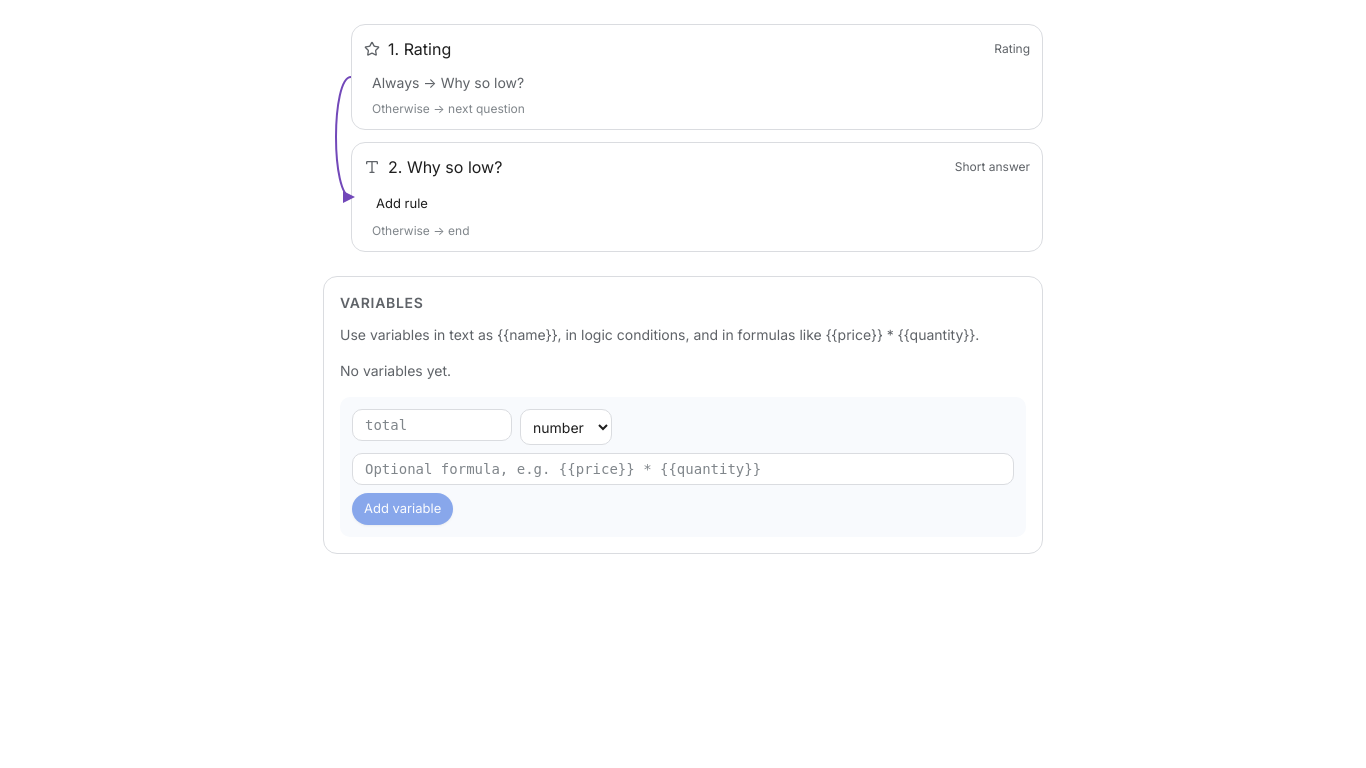
it: WorkflowTab › clicking a question's rule summary opens the existing LogicPanel in a sheet
This screenshot has width=1366, height=768.
Click the button "Always → Why so low?": [448, 82] box [364,69,1030,97]
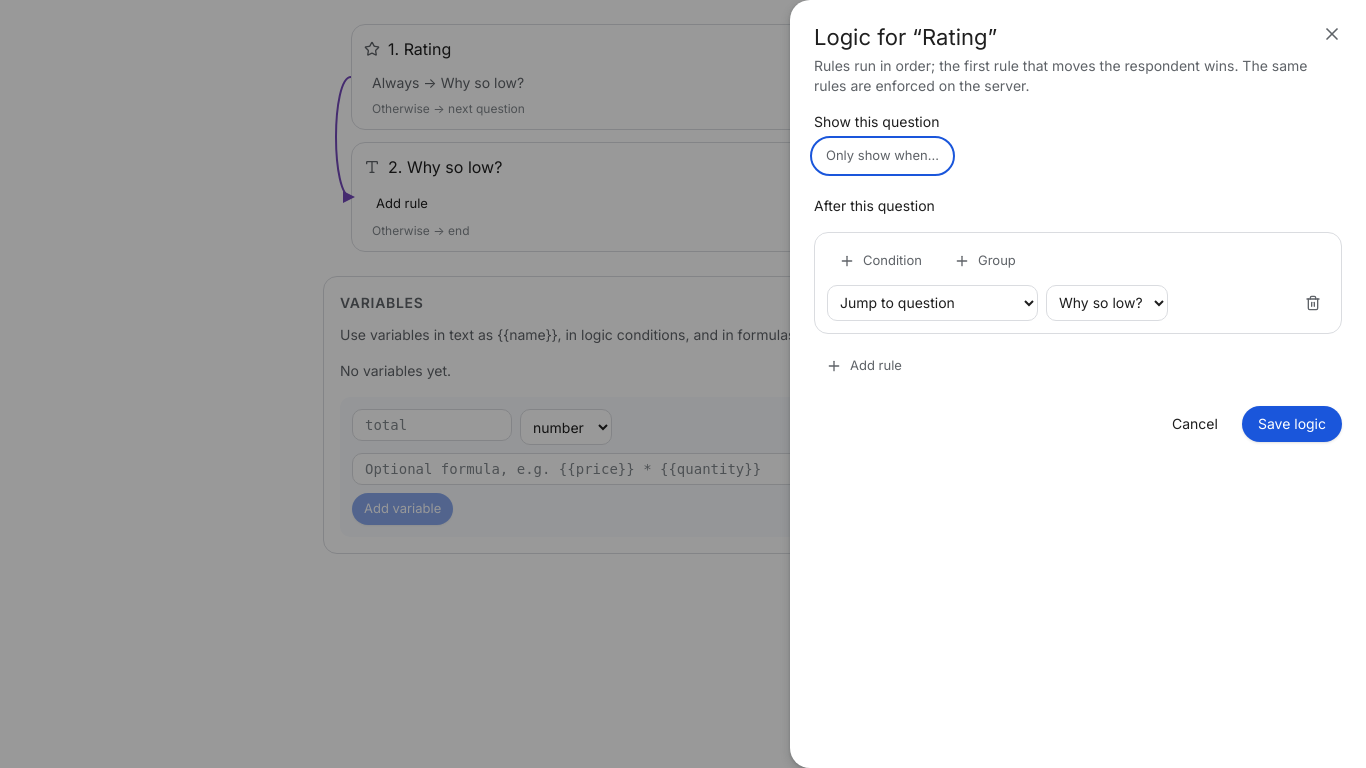
Result: the heading "After this question" is shown at [814,196,935,214]
